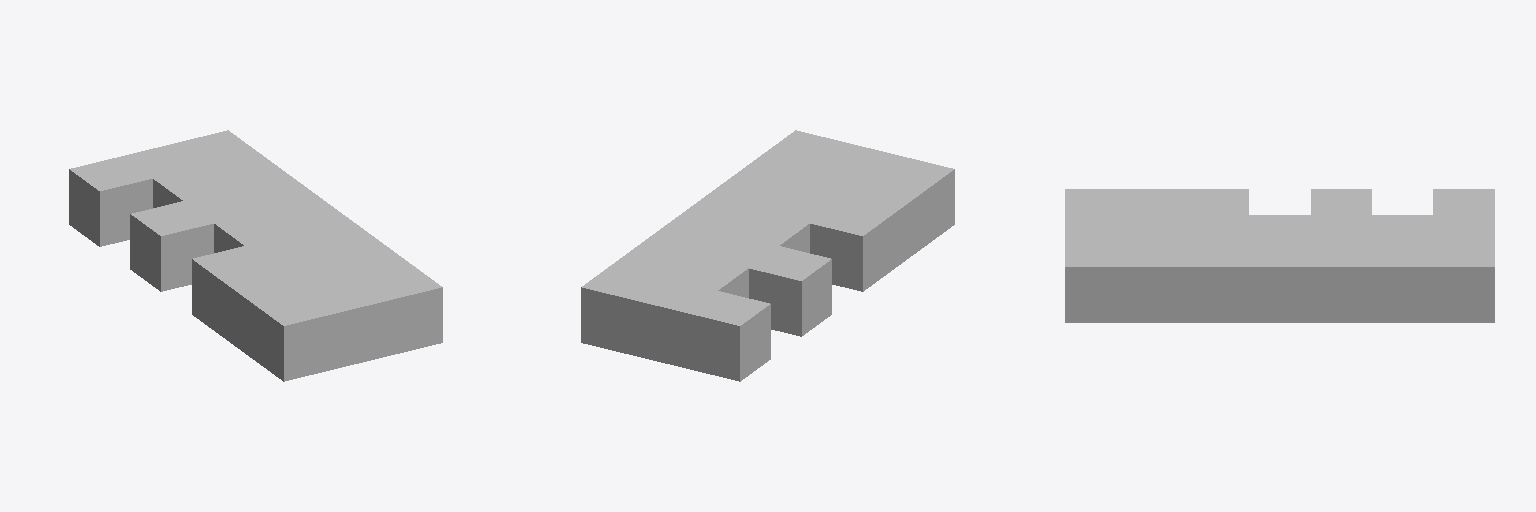
The model's file is obj-saw.obj.
The picture shows the model from 3 angles: view 1: azimuth 30°, elevation 25°; view 2: azimuth 150°, elevation 25°; view 3: azimuth 270°, elevation 25°; orthographic projection.
Parts seen in each view (by area): view 1: saw; view 2: saw; view 3: saw.
Part boxes in pixels (bbox=[...]): saw: bbox=[69, 130, 442, 381]; saw: bbox=[581, 130, 954, 381]; saw: bbox=[1065, 189, 1494, 322].
Bounding box in the file's own units: 0.3 × 0.1 × 0.7.